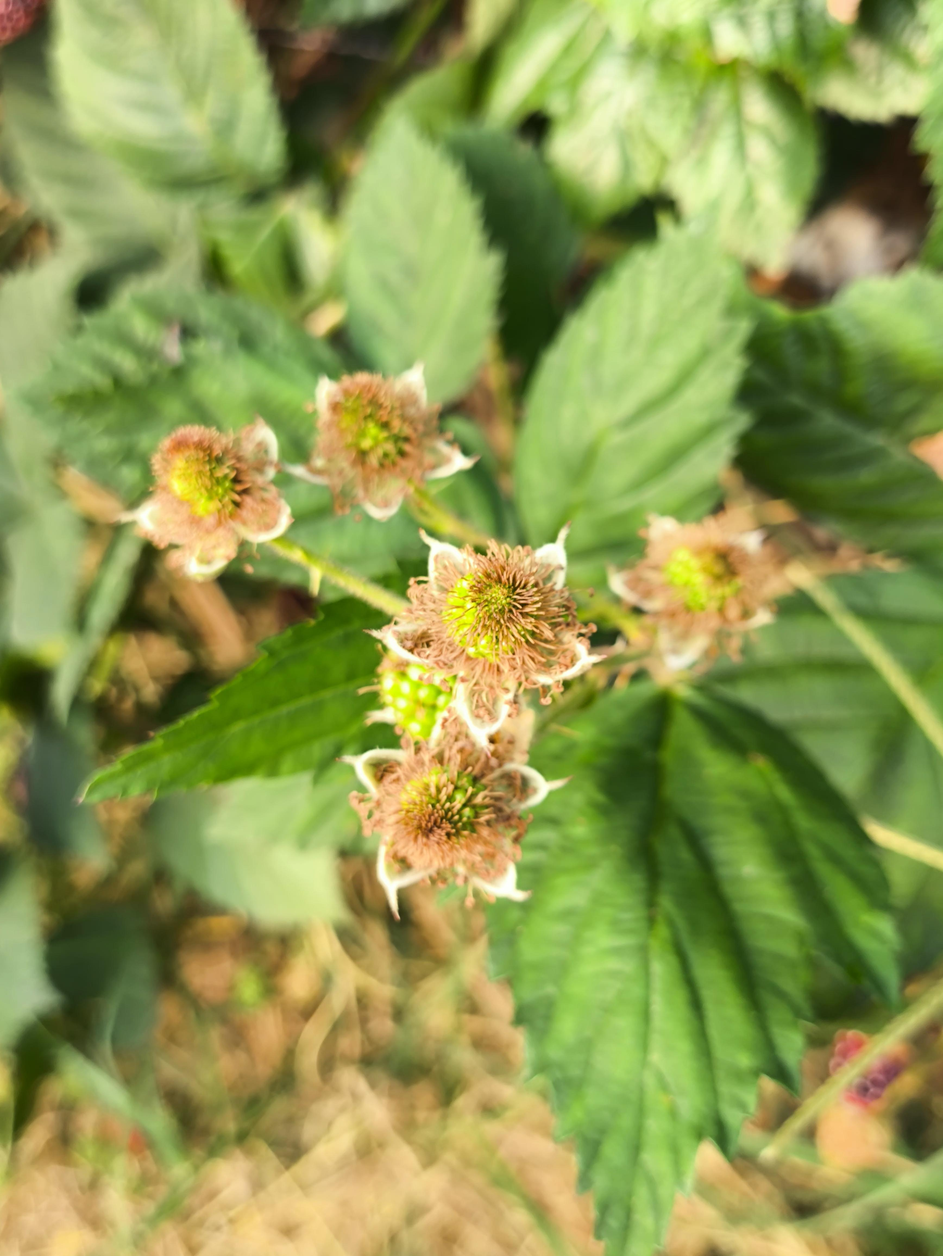flor: (384, 529, 596, 741), (345, 721, 565, 918), (303, 364, 470, 521)
